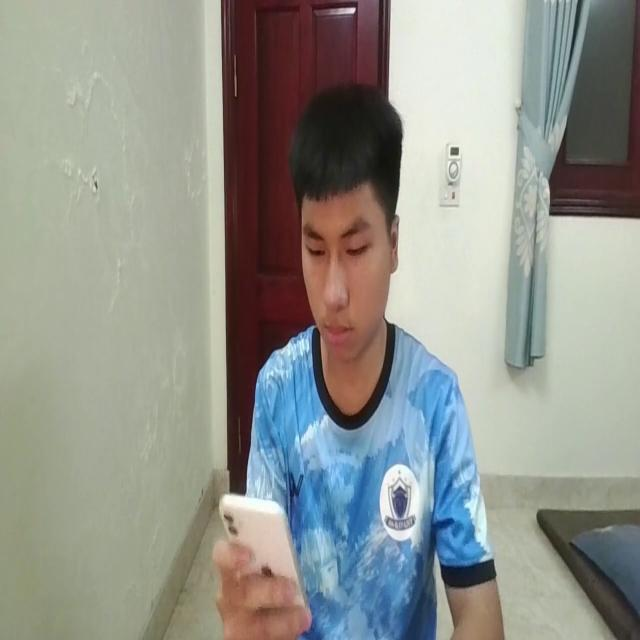phone: (216, 484, 312, 632)
student: (212, 81, 506, 640)
